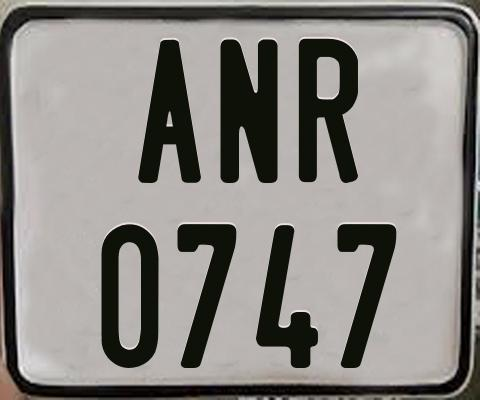0: (99, 222, 163, 371)
4: (253, 225, 317, 369)
7: (334, 222, 395, 369), (174, 222, 233, 367)
A: (138, 40, 207, 185)
N: (217, 39, 280, 188)
R: (297, 37, 359, 183)
